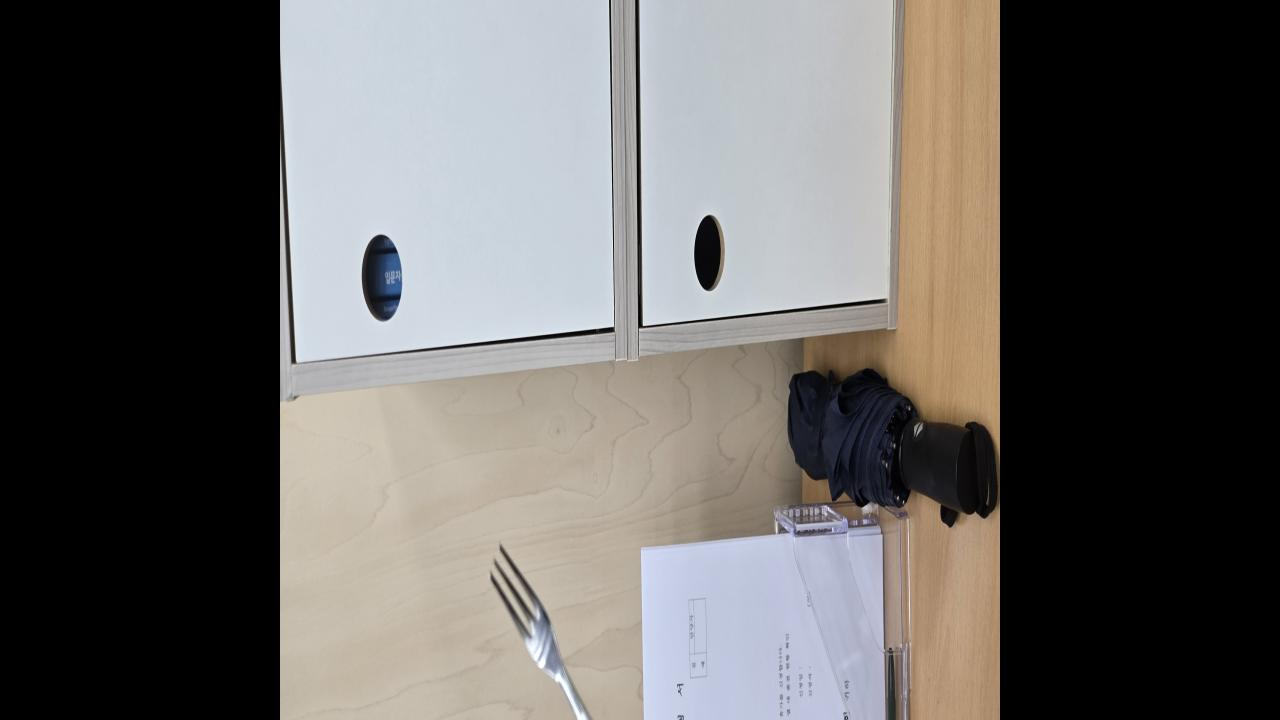fork: (488, 536, 684, 720)
